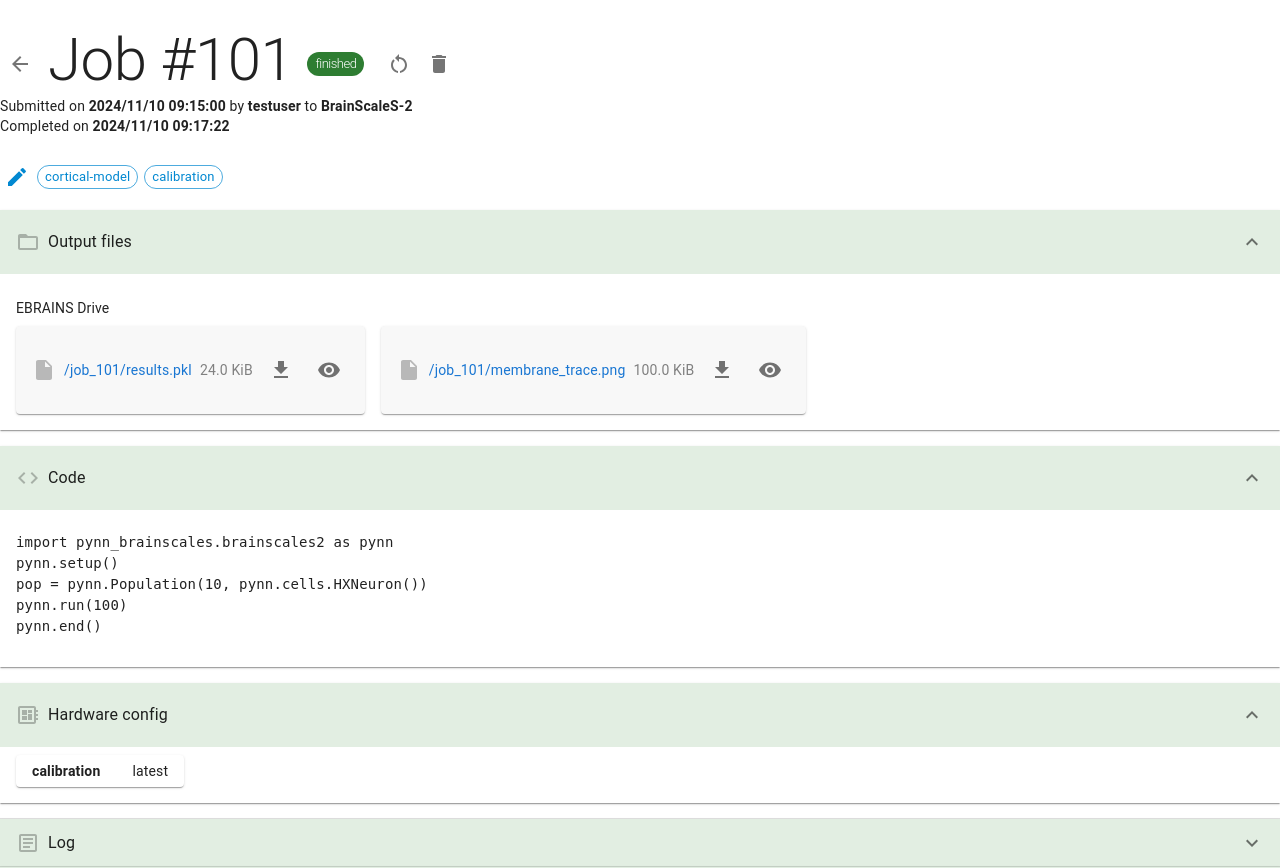
Test: JobDetail › the delete button opens a confirmation dialog that 'No' dismisses
Click the button with test id "DeleteIcon" at (438, 64), box [418,44,458,84]
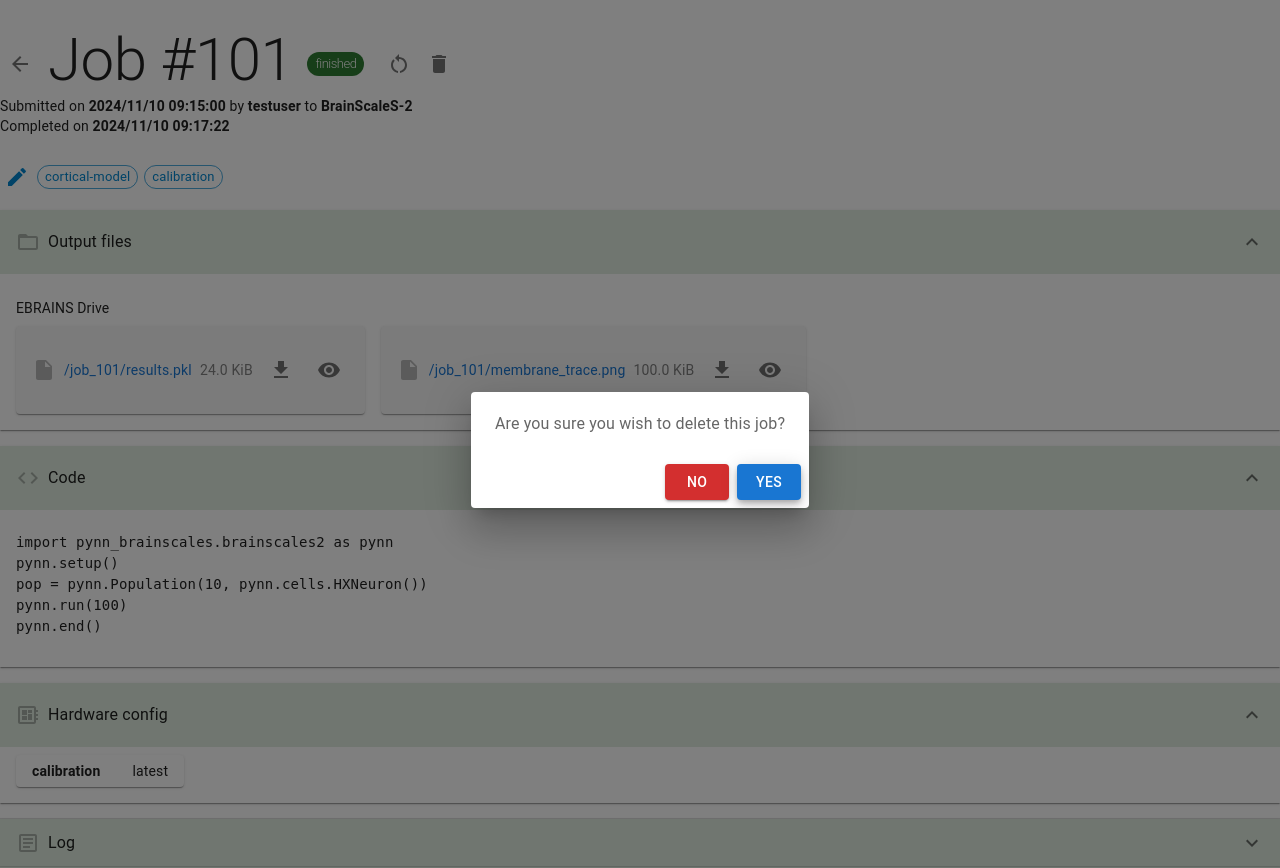
Expected: the text "Are you sure you wish to delete this job?" is shown, [495,412,785,436]
Click the button "No" at (697, 482), box [665,464,729,500]
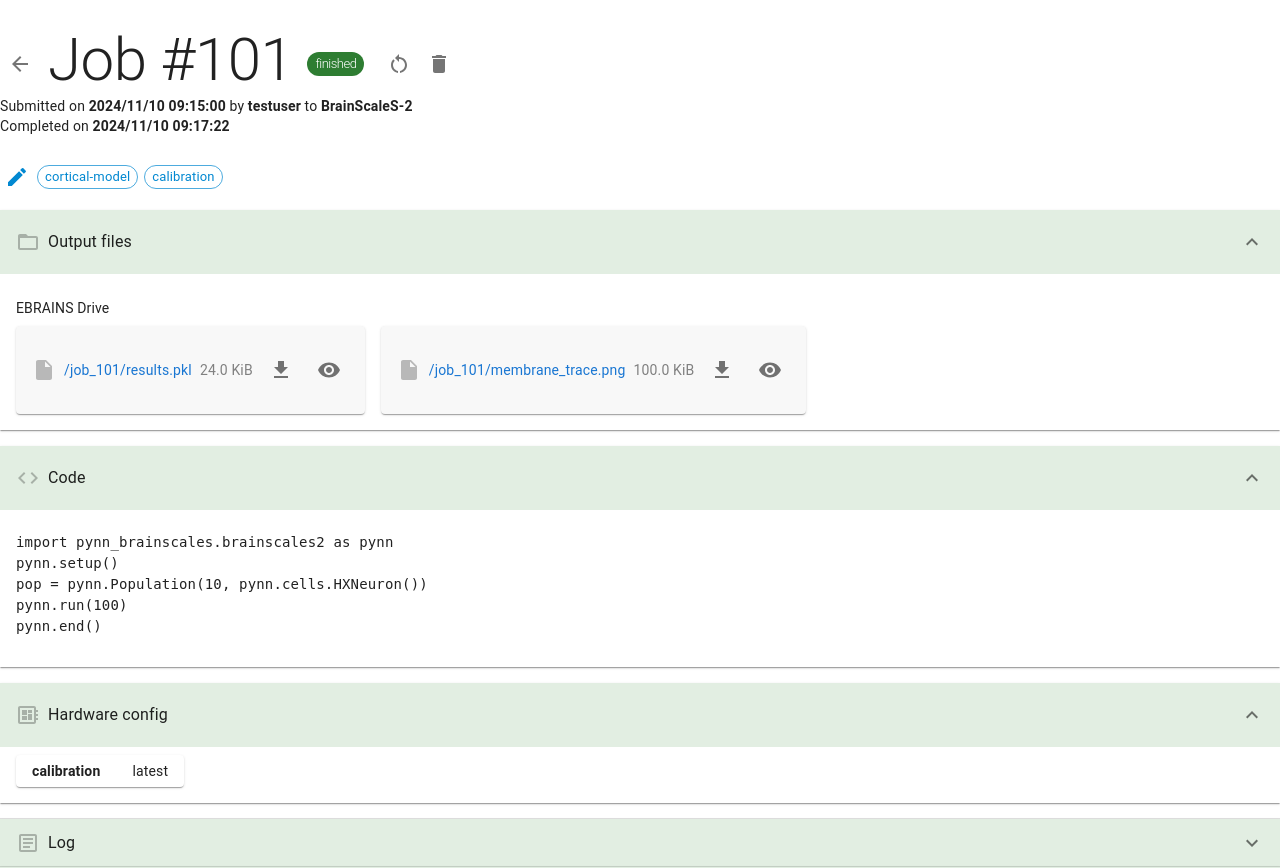
Expected: the text "Are you sure you wish to delete this job?" is gone
